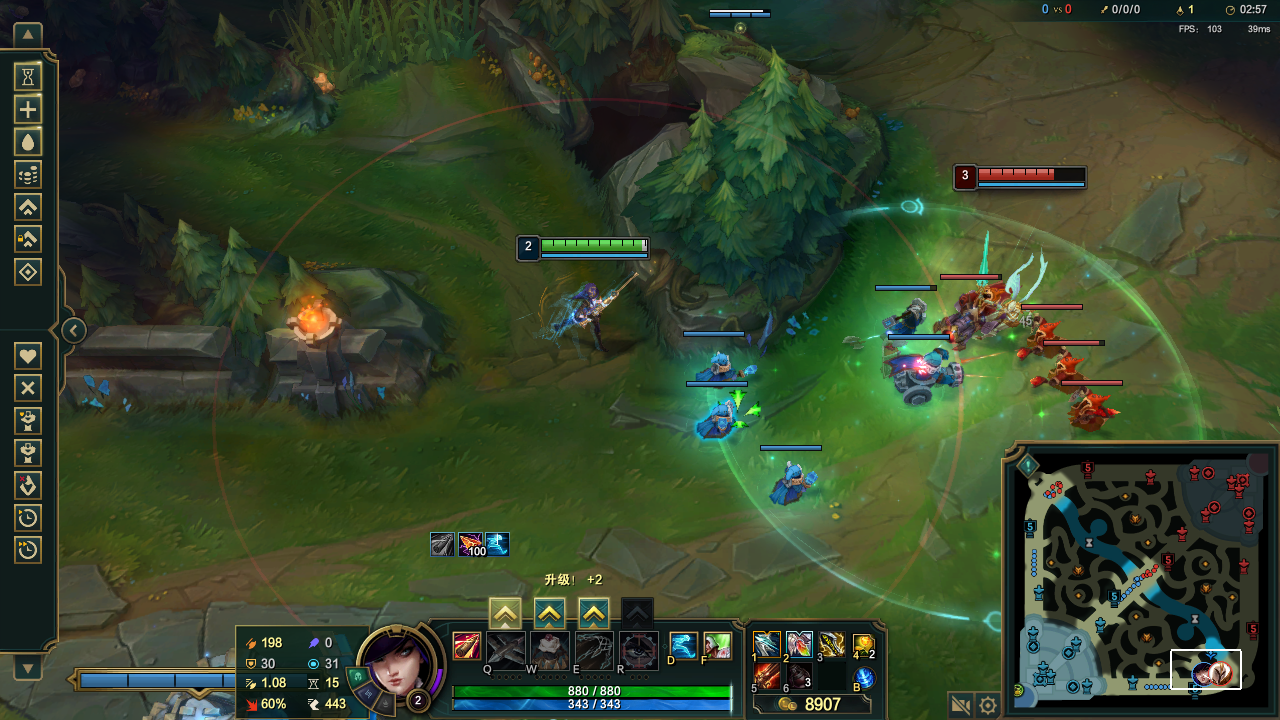DFYX: (978, 167, 1087, 181)
